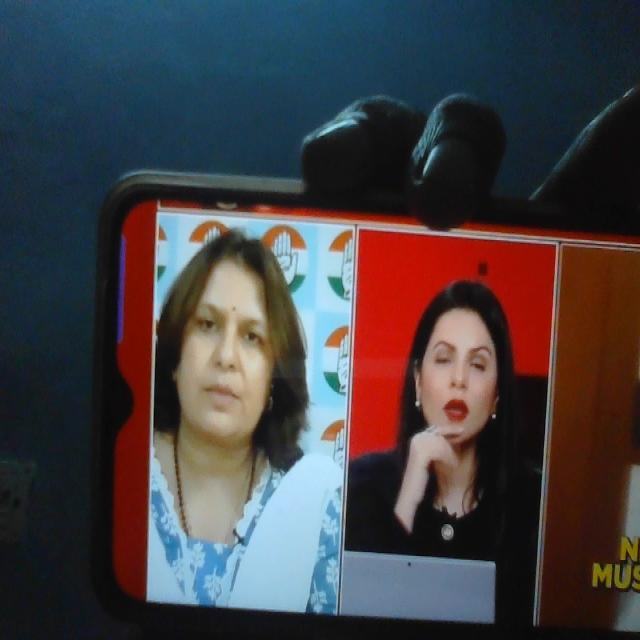fake: (163, 220, 287, 455), (409, 264, 517, 468)
